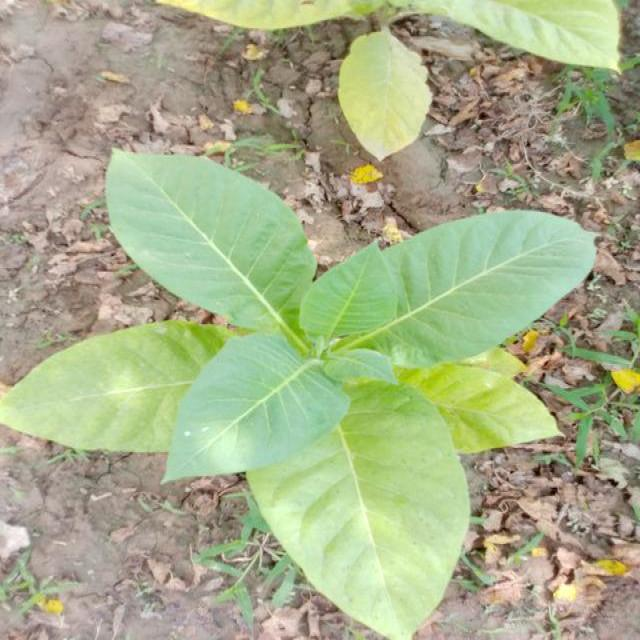crop: (31, 156, 578, 640), (182, 0, 589, 146)
